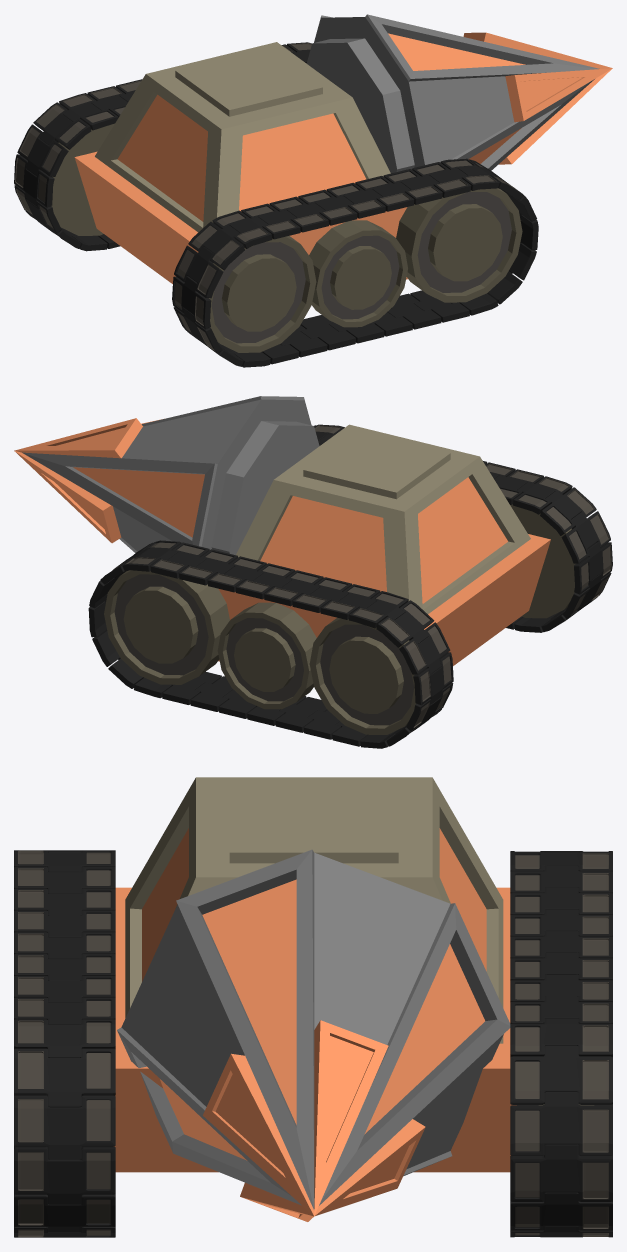
Rendered from BoreTank.fbx.
3 renders of one model, top to bottom at view 1: azimuth 30°, elevation 25°; view 2: azimuth 150°, elevation 25°; view 3: azimuth 270°, elevation 25°, orthographic. The views are drawn at different scales.
Parts seen in each view (by area): view 1: Cube.212, Cone, Cube.209, Cylinder.047, Cylinder.048, Cube.211, Cylinder.049, Cube.208, Cylinder.050; view 2: Cube.212, Cone, Cube.211, Cylinder.051, Cylinder.050, Cube.209, Cube.208, Cylinder.052, Cylinder.048; view 3: Cone, Cube.211, Cube.209, Cube.212, Cube.208.
Part boxes in pixels (left/top/right/bottom): Cube.212: left=95, top=42, right=390, bottom=232; Cone: left=306, top=14, right=612, bottom=173; Cube.209: left=172, top=158, right=538, bottom=367; Cylinder.047: left=396, top=188, right=522, bottom=302; Cylinder.048: left=209, top=236, right=316, bottom=352; Cube.211: left=14, top=42, right=311, bottom=251; Cylinder.049: left=309, top=220, right=407, bottom=327; Cube.208: left=74, top=151, right=407, bottom=283; Cylinder.050: left=51, top=123, right=114, bottom=235; Cube.212: left=236, top=424, right=530, bottom=613; Cone: left=14, top=396, right=319, bottom=554; Cube.211: left=88, top=540, right=453, bottom=748; Cylinder.051: left=104, top=570, right=229, bottom=684; Cylinder.050: left=309, top=617, right=415, bottom=734; Cube.209: left=314, top=424, right=612, bottom=632; Cube.208: left=218, top=534, right=550, bottom=665; Cylinder.052: left=217, top=602, right=316, bottom=709; Cylinder.048: left=510, top=504, right=575, bottom=618; Cone: left=117, top=849, right=510, bottom=1221; Cube.211: left=510, top=851, right=612, bottom=1237; Cube.209: left=14, top=850, right=115, bottom=1237; Cube.212: left=125, top=777, right=503, bottom=1043; Cube.208: left=114, top=887, right=516, bottom=1172.
Bounding box in the file's own units: 296 × 131 × 194.
